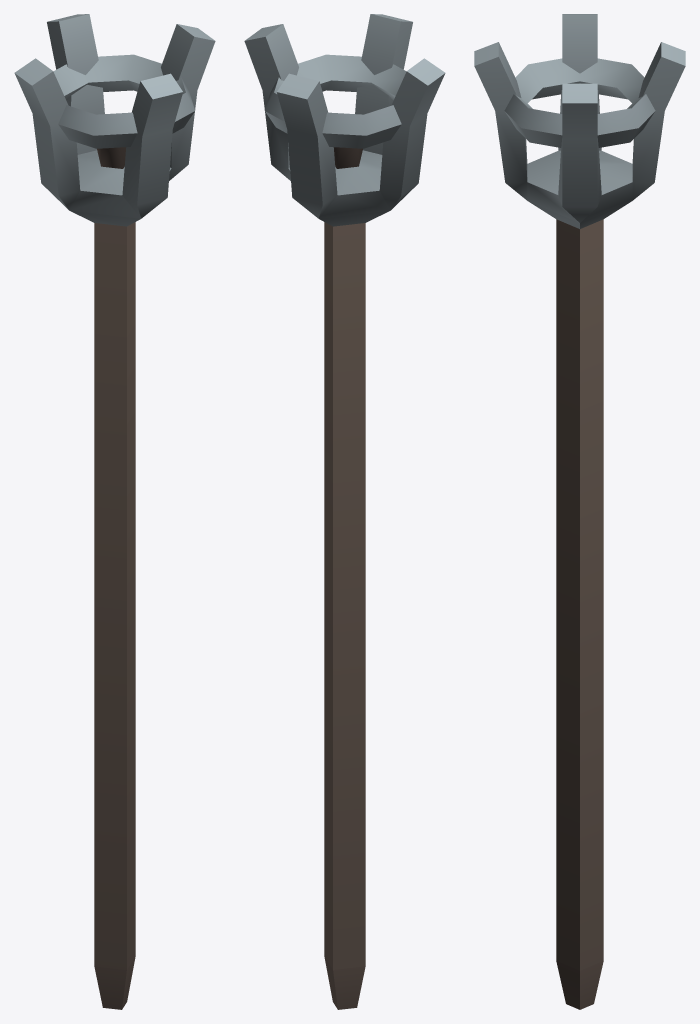
The model's file is torch_lit.glb.
3 views of the same model, side by side, from view 1: azimuth 30°, elevation 25°; view 2: azimuth 150°, elevation 25°; view 3: azimuth 270°, elevation 25° (orthographic).
Visible parts, largest first — view 1: torch_lit; view 2: torch_lit; view 3: torch_lit.
Part boxes in pixels (x1=…): torch_lit: x1=14, y1=14, x2=215, y2=1009; torch_lit: x1=244, y1=14, x2=445, y2=1009; torch_lit: x1=474, y1=14, x2=685, y2=1009.
Bounding box in the file's own units: 0.5503 × 2.75 × 0.5503.
Materials: 1 (1 with a texture image).
